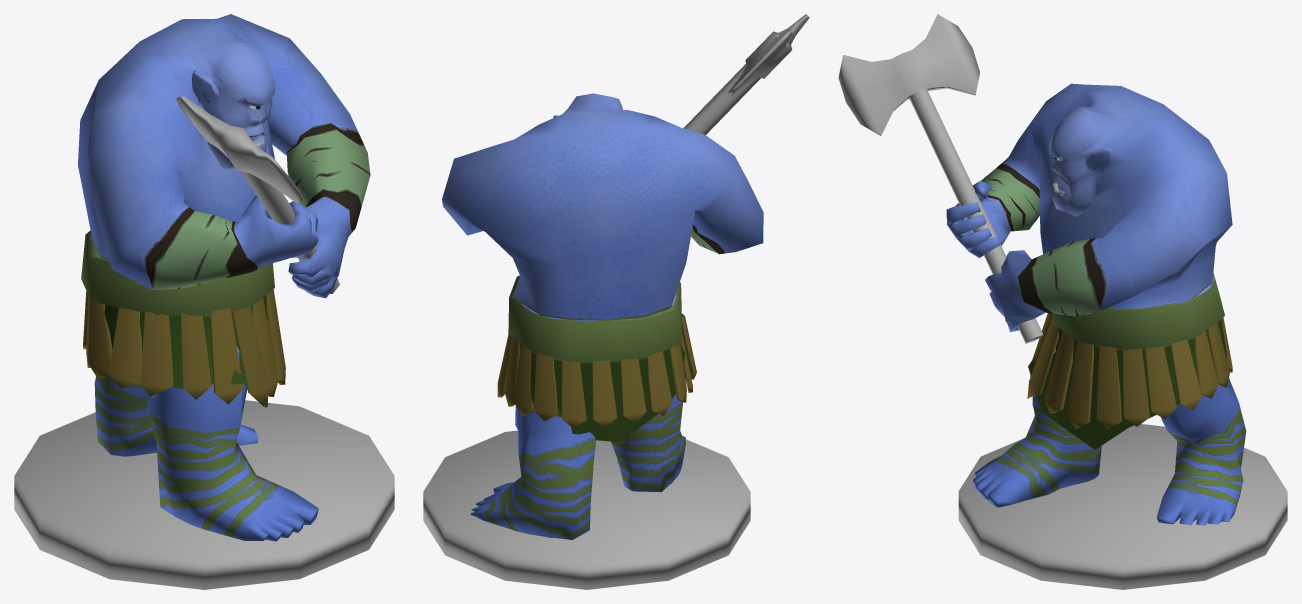
The model's file is Ciclope.fbx.
3 renders of one model, left to right at view 1: azimuth 30°, elevation 25°; view 2: azimuth 150°, elevation 25°; view 3: azimuth 270°, elevation 25°, orthographic. The views are drawn at different scales.
Visible parts, largest first — view 1: Ciclope_body, base, axe; view 2: Ciclope_body, base, axe; view 3: Ciclope_body, base, axe.
Boxes of the visible parts, x1,y1,x2,y2 form: Ciclope_body: (78,14,370,541); base: (14,400,394,589); axe: (176,96,339,293); Ciclope_body: (442,93,763,539); base: (423,430,750,589); axe: (683,14,809,134); Ciclope_body: (946,83,1246,525); base: (958,424,1287,589); axe: (838,14,1042,343).
Bounding box in the file's own units: 5.07 × 7.7 × 6.92.
